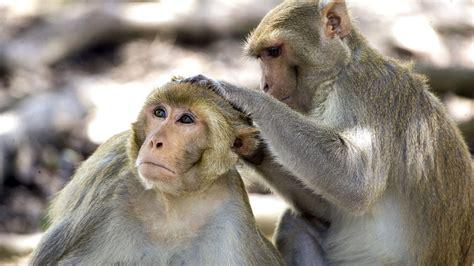monkey: (174, 1, 474, 266), (32, 83, 277, 266)
